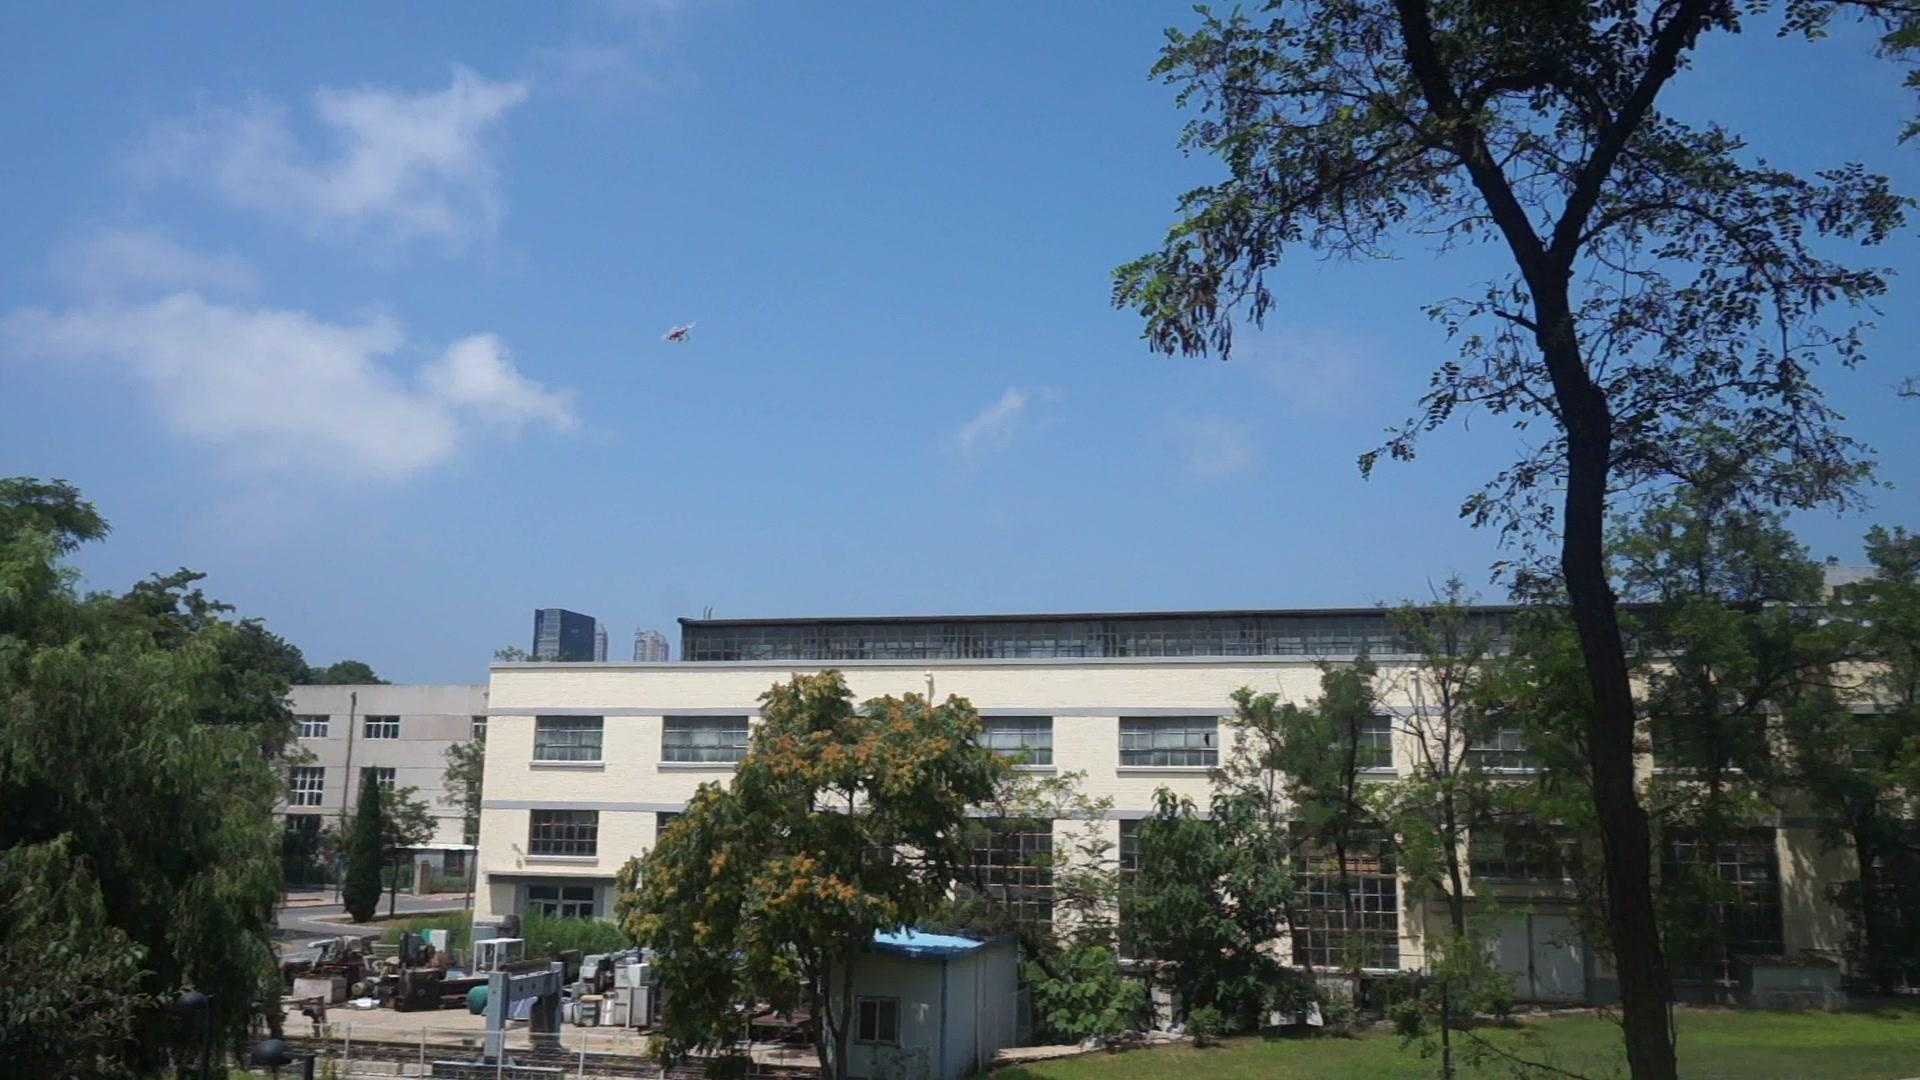UAV: (661, 320, 698, 344)
